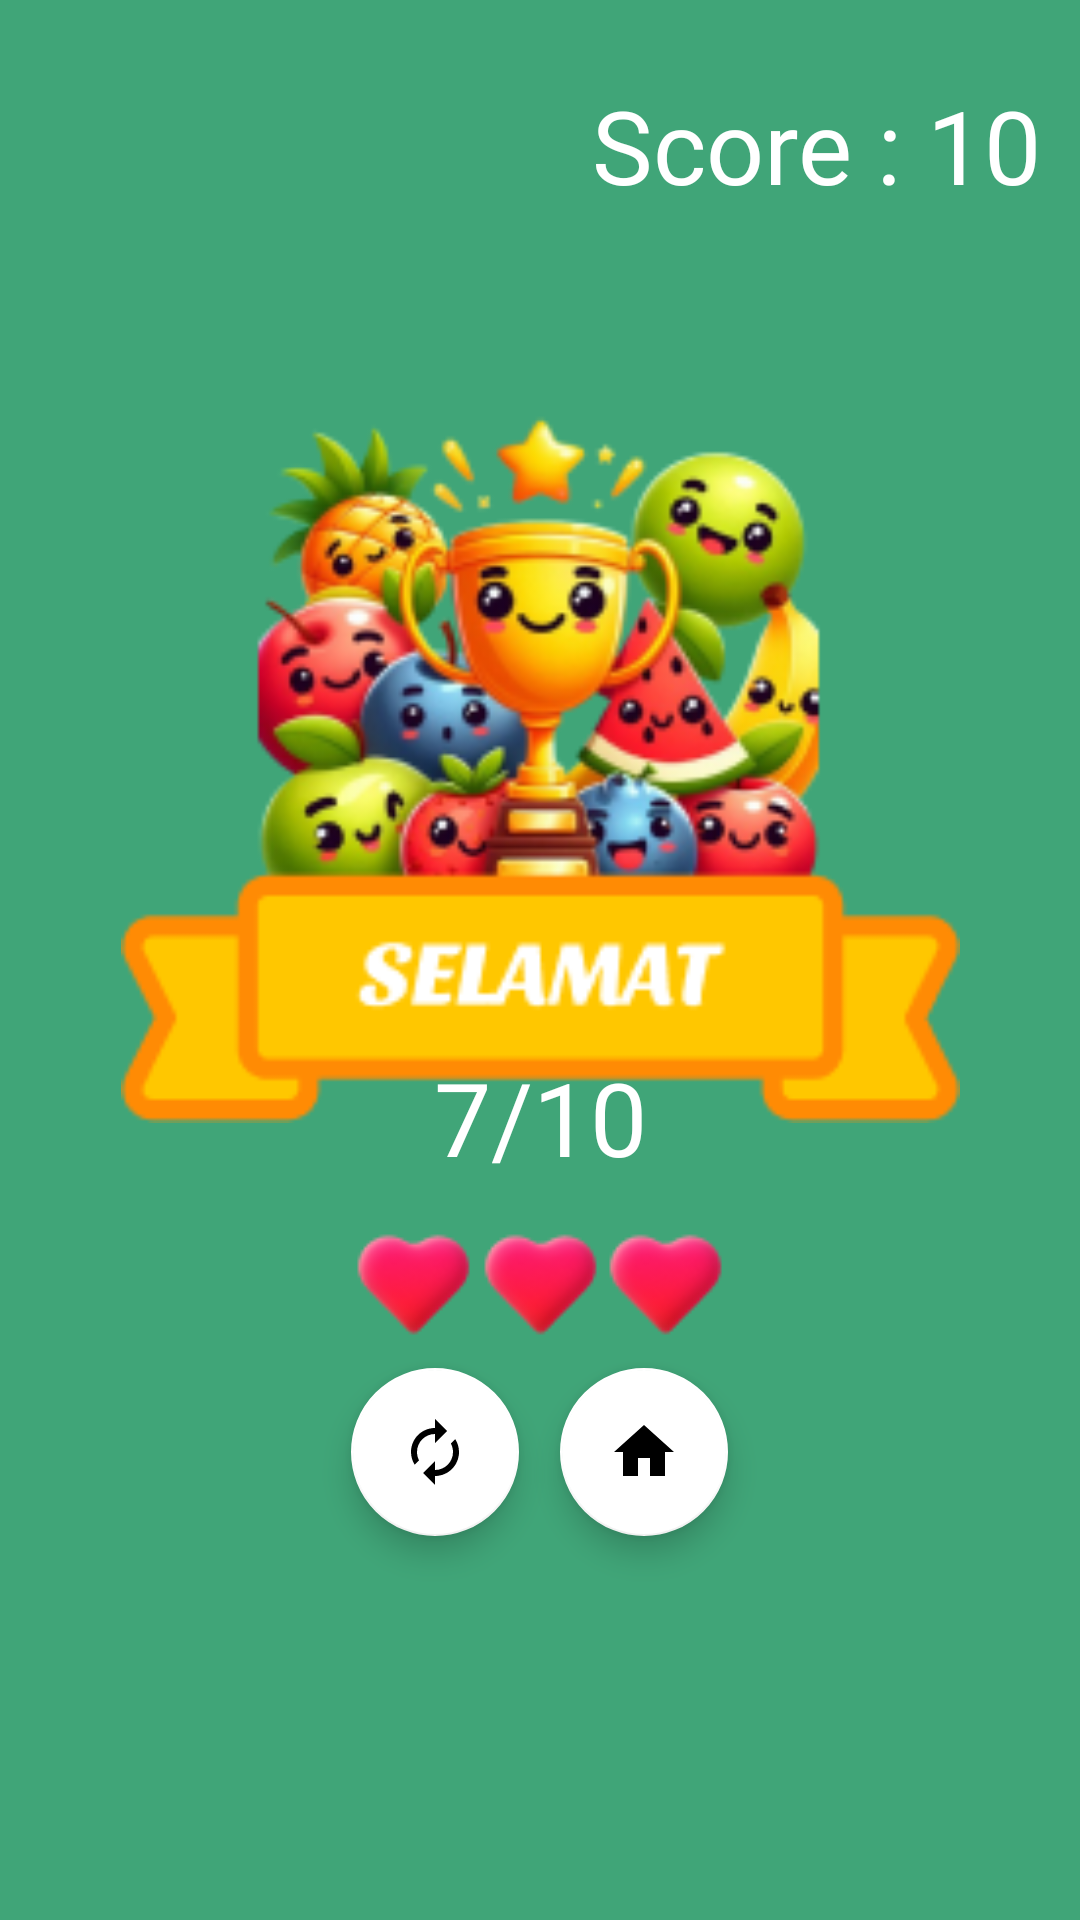

Where to tap for icons on this 1080*1920 app screen, as (x,y):
autorenew: (435,1452)
full love: (413,1284), (540,1284), (665,1284)
home: (644,1452)
